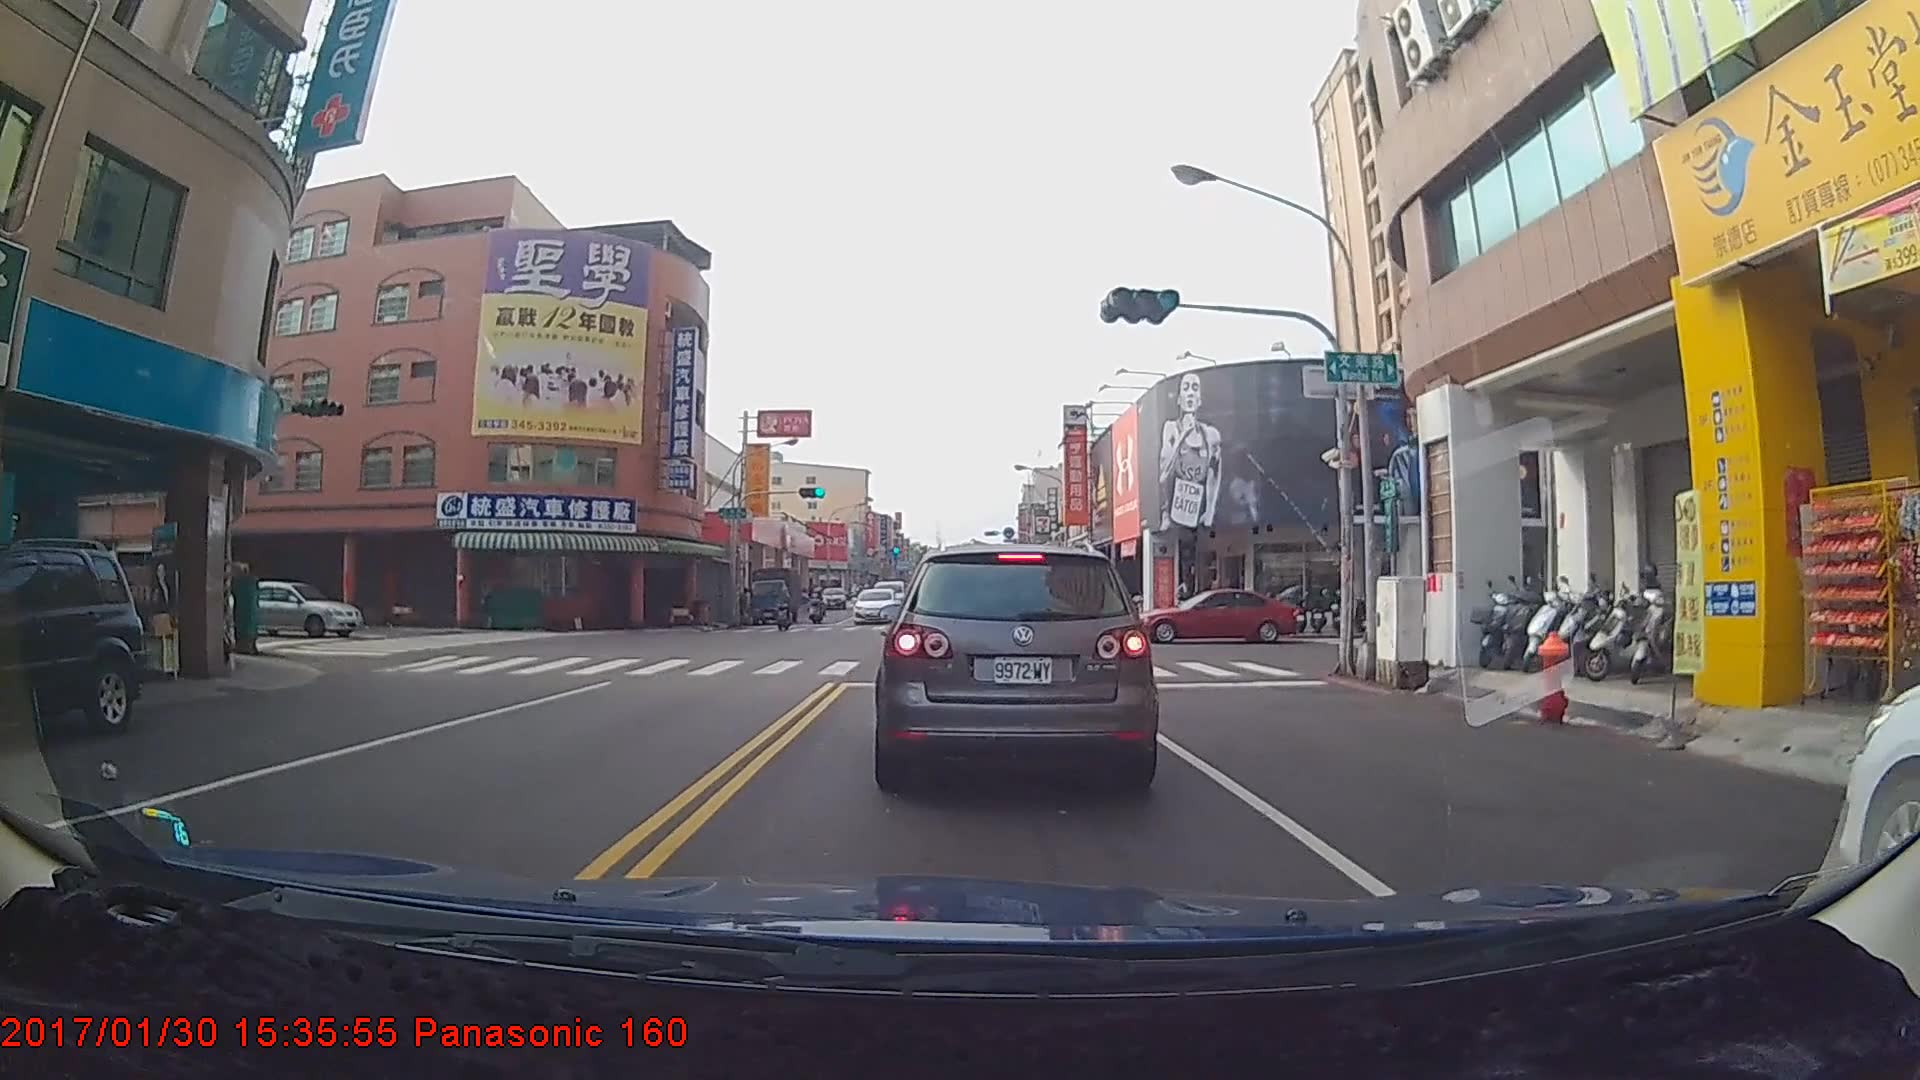rider: (768, 591, 800, 637), (807, 589, 833, 630)
vehicle: (879, 535, 1155, 793), (0, 546, 145, 751), (1135, 588, 1304, 645), (211, 576, 363, 636), (746, 566, 800, 624), (851, 586, 899, 623)
